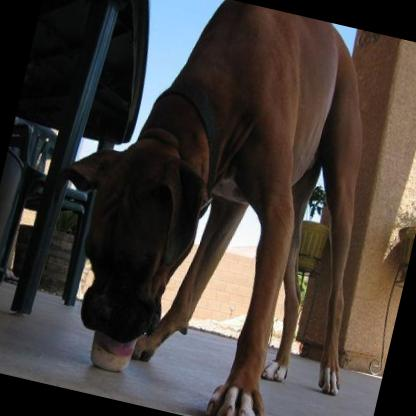boxer: (9, 0, 416, 416)
